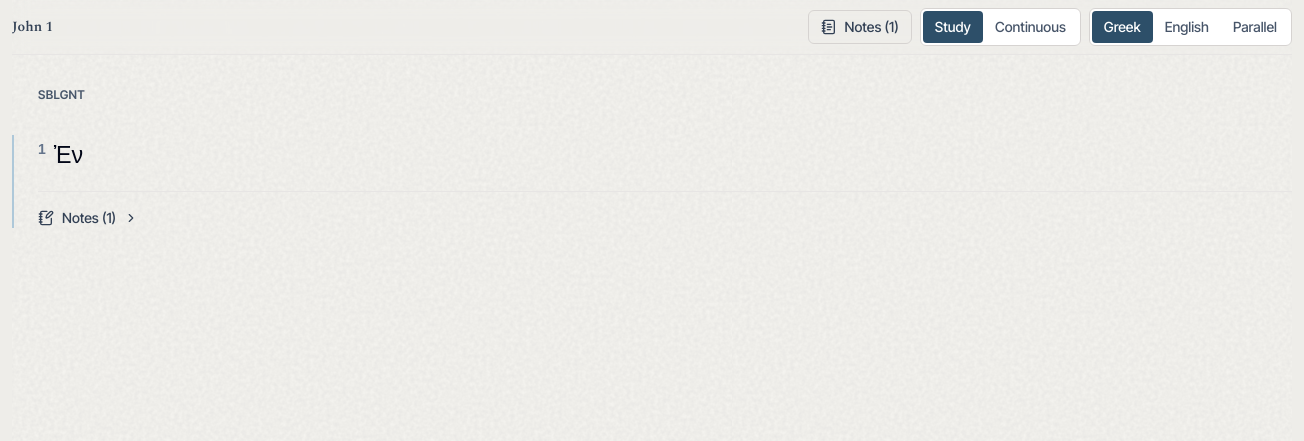
Scenario: BibleReader verse notes (study layout) › keeps verse notes collapsed until the toggle is opened
The image size is (1304, 441).
Expected: the text "my verse note" is not shown
Click the button with aria-label "notes on john 1:1" at {"x": 88, "y": 218}, box top-left (38, 208), bottom-right (138, 228)
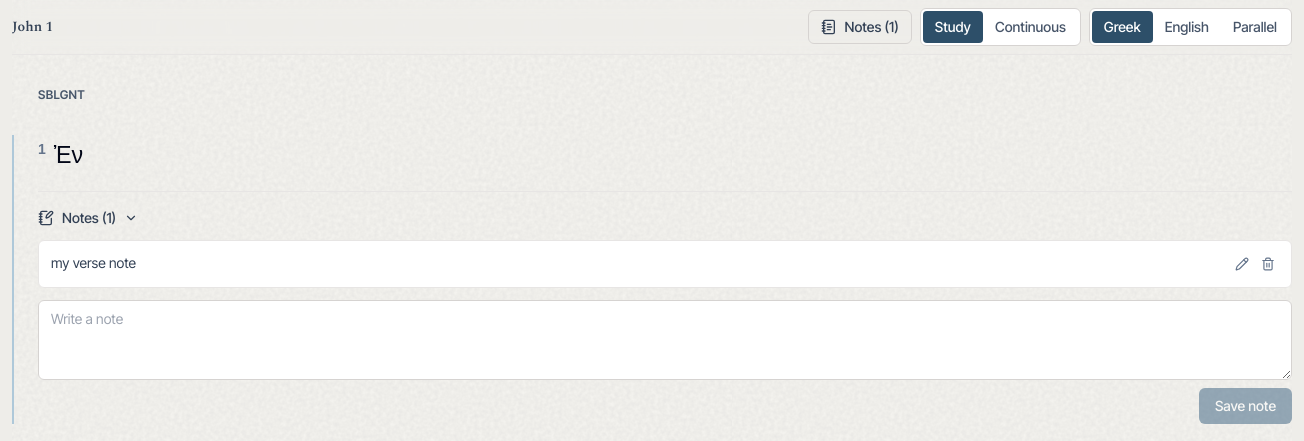
Expected: the text "my verse note" is shown, top-left (51, 253), bottom-right (136, 273)
